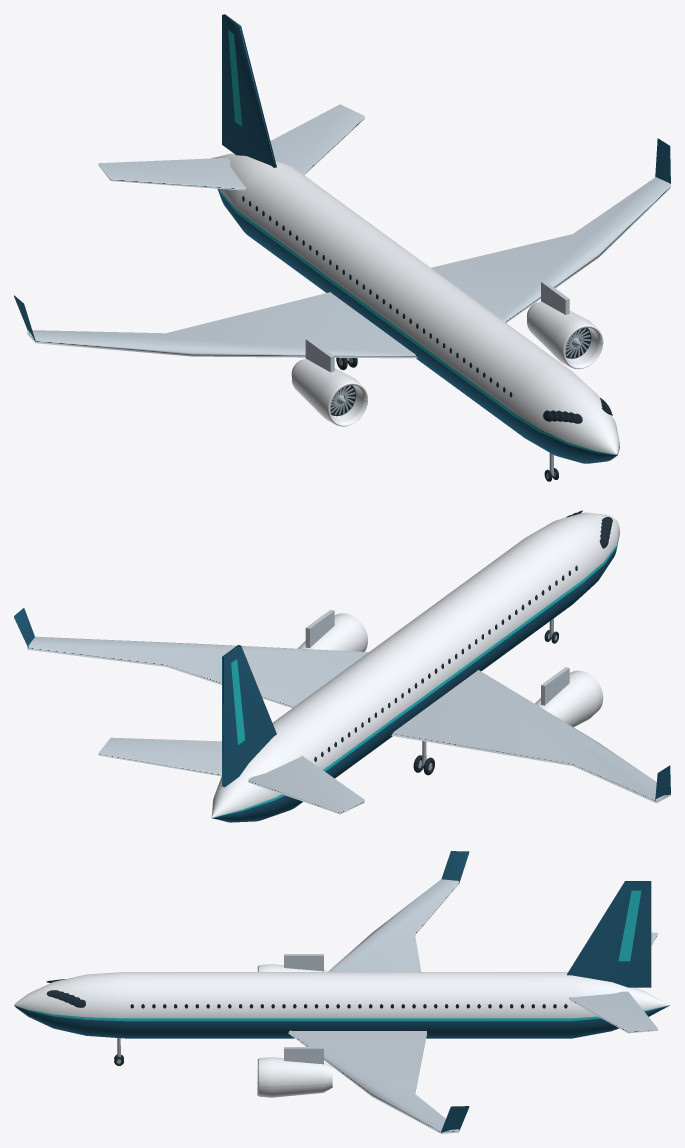
3 views of the same model, one above another, from view 1: azimuth 30°, elevation 25°; view 2: azimuth 150°, elevation 25°; view 3: azimuth 270°, elevation 25° (orthographic). The views are drawn at different scales.
Visible parts, largest first — view 1: Fuselage_white, WingRight_wing, WingLeft_wing, Fuselage_paint, VerticalTail_paint, HorizontalTailRight_wing, HorizontalTailLeft_wing, EngineRight_white, EngineLeft_white, Fuselage_accent; view 2: Fuselage_white, WingRight_wing, WingLeft_wing, Fuselage_paint, VerticalTail_paint, HorizontalTailLeft_wing, HorizontalTailRight_wing, EngineRight_white, EngineLeft_white, Fuselage_accent, EngineLeft_wing, VerticalTail_accent (+2 smaller); view 3: Fuselage_white, Fuselage_paint, WingLeft_wing, VerticalTail_paint, WingRight_wing, EngineLeft_white, Fuselage_accent, HorizontalTailLeft_wing, VerticalTail_accent, CabinWindows_dark, EngineRight_wing, EngineLeft_wing (+2 smaller).
Boxes of the visible parts, bbox=[...] form: Fuselage_white: bbox=[211, 153, 619, 454]; WingRight_wing: bbox=[27, 292, 417, 358]; WingLeft_wing: bbox=[431, 177, 670, 322]; Fuselage_paint: bbox=[217, 189, 619, 463]; VerticalTail_paint: bbox=[222, 14, 276, 167]; HorizontalTailRight_wing: bbox=[98, 158, 246, 190]; HorizontalTailLeft_wing: bbox=[270, 104, 364, 175]; EngineRight_white: bbox=[291, 359, 367, 426]; EngineLeft_white: bbox=[526, 301, 603, 369]; Fuselage_accent: bbox=[219, 189, 619, 454]; Fuselage_white: bbox=[211, 512, 619, 818]; WingRight_wing: bbox=[391, 670, 670, 803]; WingLeft_wing: bbox=[27, 636, 368, 708]; Fuselage_paint: bbox=[212, 533, 619, 822]; VerticalTail_paint: bbox=[222, 645, 276, 787]; HorizontalTailLeft_wing: bbox=[98, 737, 221, 776]; HorizontalTailRight_wing: bbox=[248, 755, 364, 814]; EngineRight_white: bbox=[535, 670, 603, 727]; EngineLeft_white: bbox=[298, 613, 367, 651]; Fuselage_accent: bbox=[215, 532, 619, 817]; EngineLeft_wing: bbox=[305, 609, 334, 648]; VerticalTail_accent: bbox=[231, 659, 245, 744]; Fuselage_white: bbox=[14, 972, 670, 1018]; Fuselage_paint: bbox=[14, 1005, 669, 1038]; WingLeft_wing: bbox=[288, 1030, 459, 1133]; VerticalTail_paint: bbox=[567, 881, 651, 987]; WingRight_wing: bbox=[328, 879, 459, 971]; EngineLeft_white: bbox=[257, 1057, 332, 1097]; Fuselage_accent: bbox=[16, 1006, 666, 1021]; HorizontalTailLeft_wing: bbox=[568, 991, 657, 1033]; VerticalTail_accent: bbox=[618, 890, 641, 961]; CabinWindows_dark: bbox=[130, 1004, 567, 1008]; EngineRight_wing: bbox=[284, 954, 323, 971]; EngineLeft_wing: bbox=[284, 1047, 323, 1064].
Bounding box in the file's own units: 35.8 × 11.95 × 38.9.
